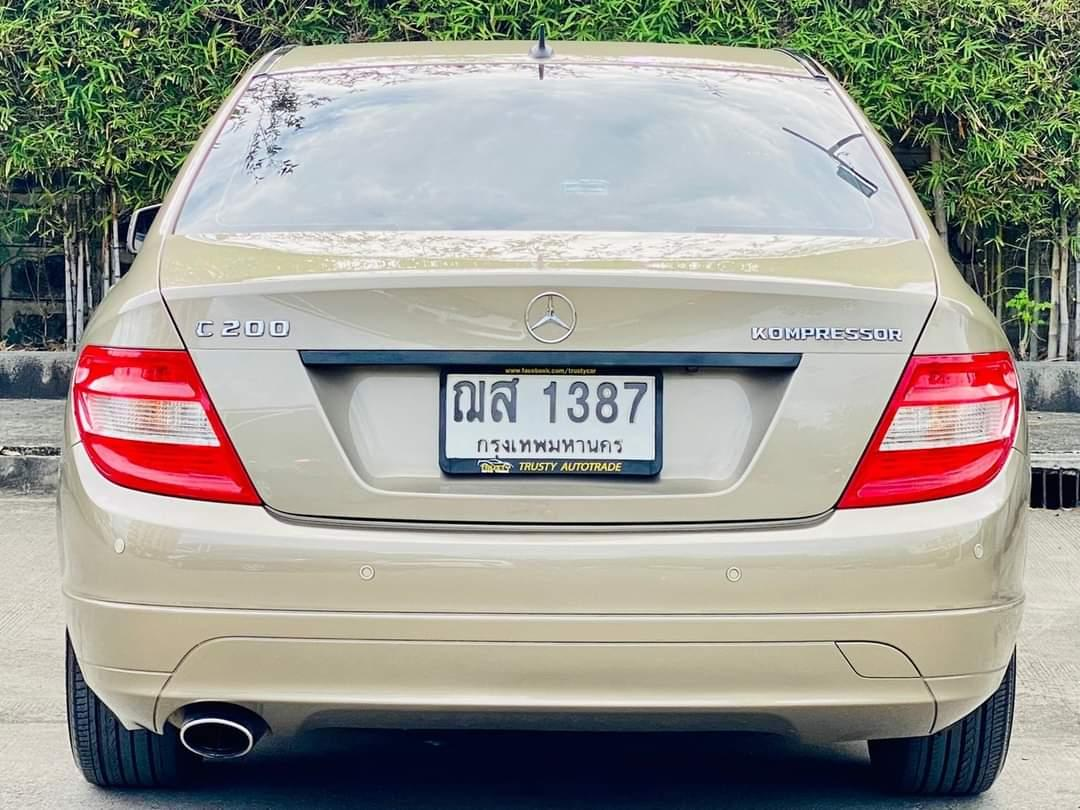license-plate: (436, 362, 665, 479)
